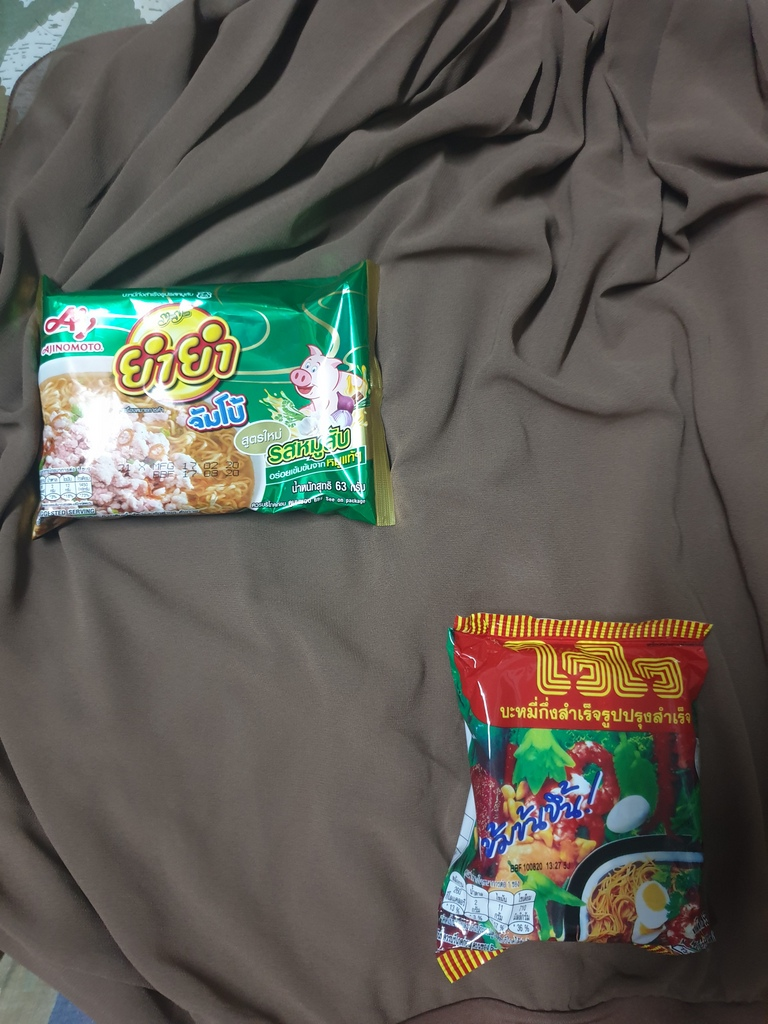waiwai: (442, 608, 717, 975)
yumyum: (32, 278, 402, 536)
